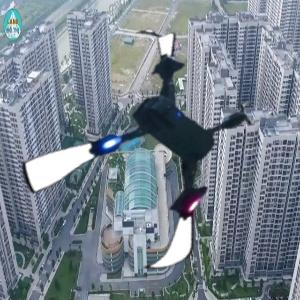drone: (26, 36, 274, 284)
